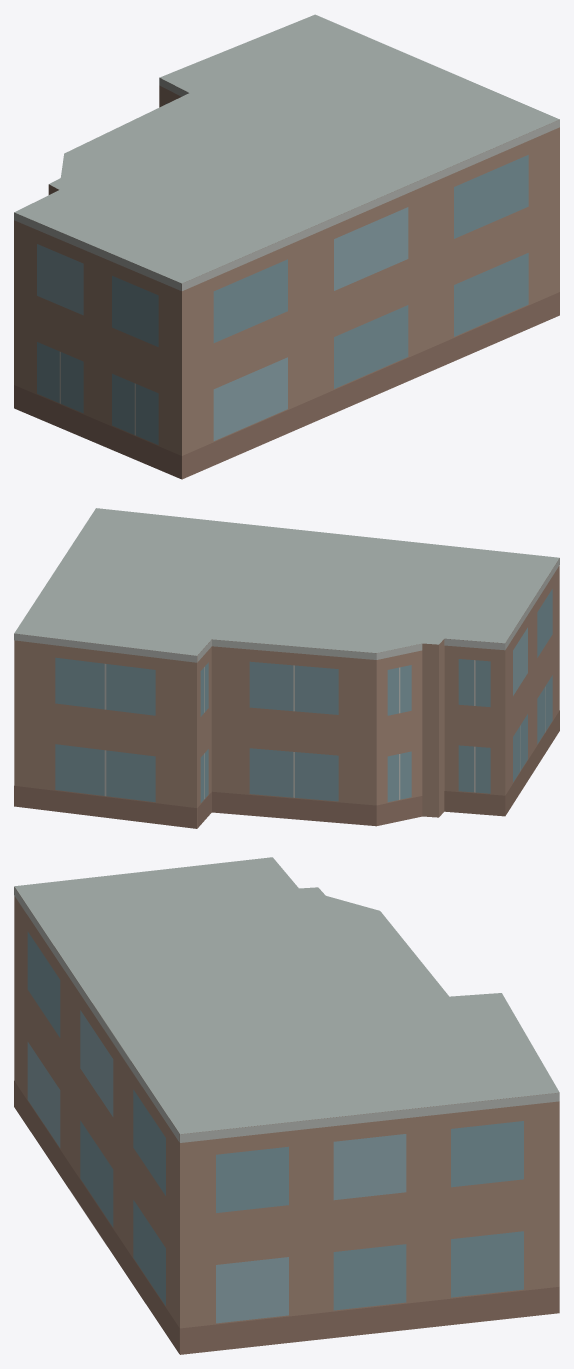
The model's file is survey-upis-32623847.glb.
3 renders of one model, top to bottom at view 1: azimuth 30°, elevation 25°; view 2: azimuth 150°, elevation 25°; view 3: azimuth 270°, elevation 25°, orthographic. The views are drawn at different scales.
Parts seen in each view (by area): view 1: survey-upis-32623847.tmp; view 2: survey-upis-32623847.tmp; view 3: survey-upis-32623847.tmp.
Boxes of the visible parts, x1,y1,x2,y2 form: survey-upis-32623847.tmp: (14,14,559,479); survey-upis-32623847.tmp: (14,508,559,828); survey-upis-32623847.tmp: (14,857,559,1354).
Size of the model in its own units: 16.45 by 6.1 by 13.69.
